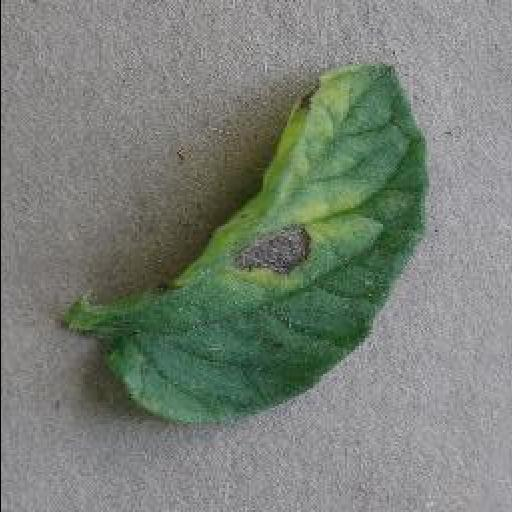disease_tomato: (96, 66, 432, 422)
